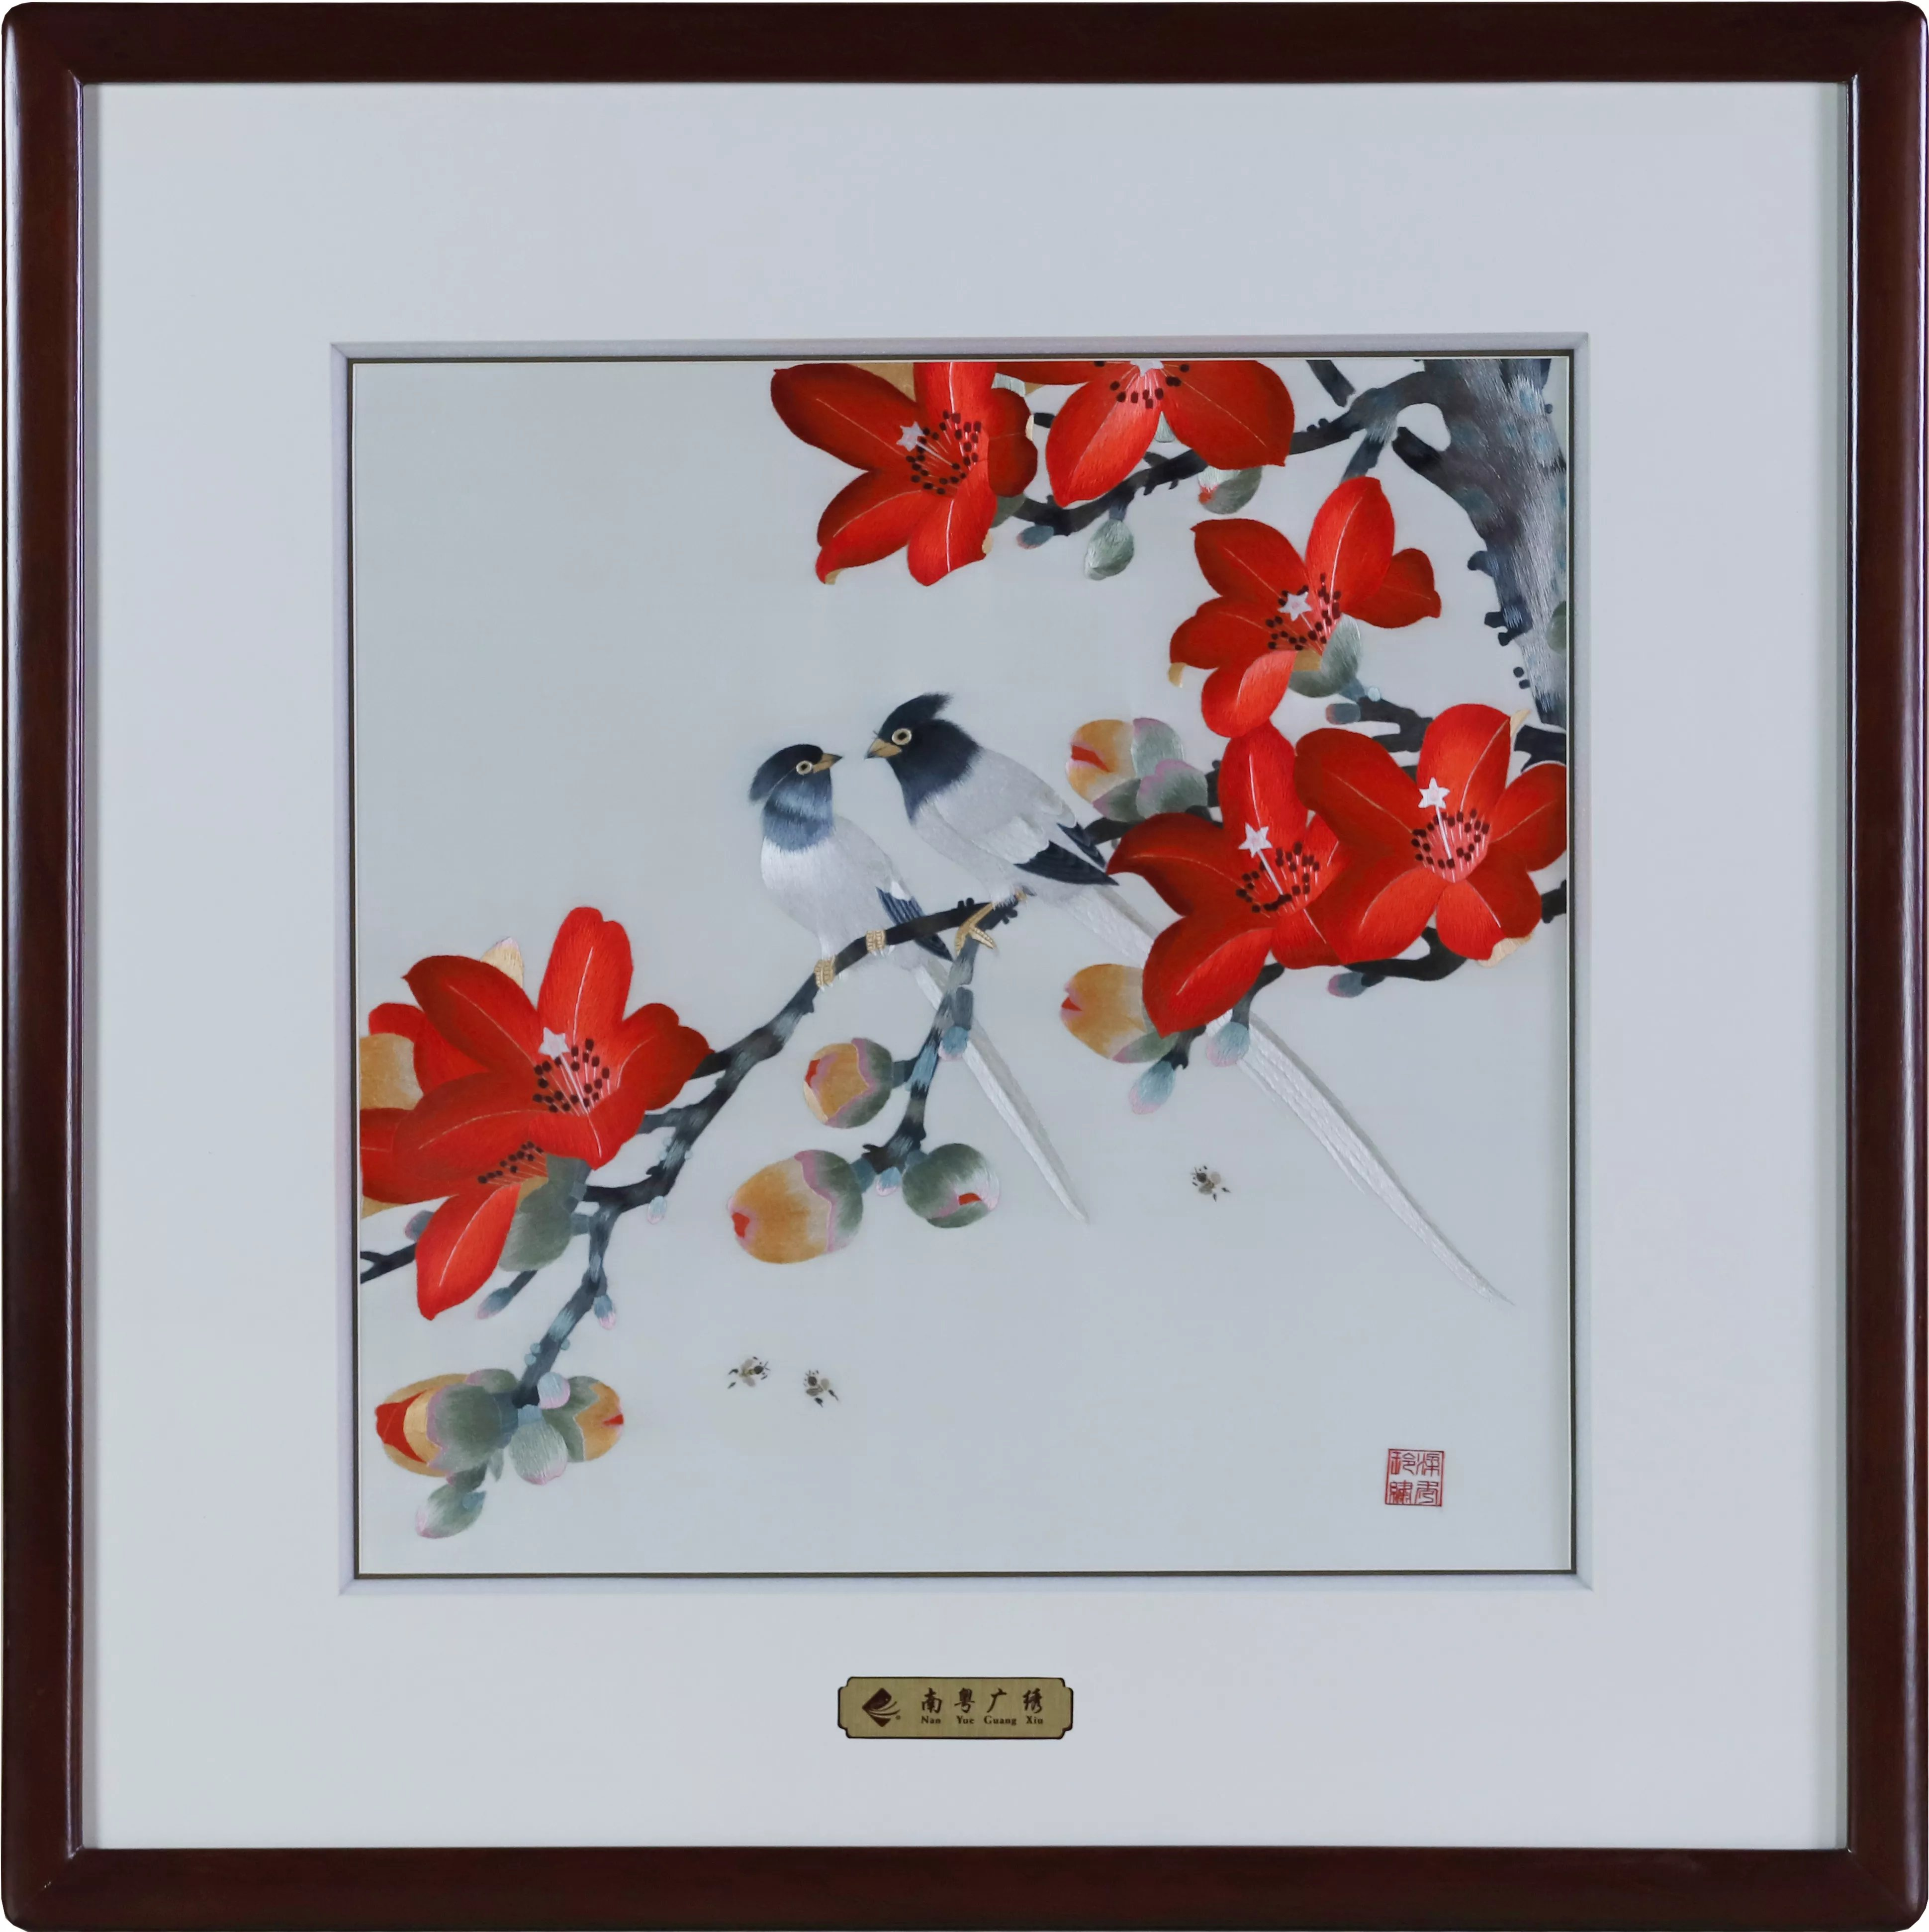bird: (855, 692, 1523, 1307), (747, 745, 1092, 1238)
kapok: (399, 906, 714, 1169), (1104, 724, 1350, 1040), (360, 936, 558, 1321), (1175, 470, 1449, 736), (1295, 705, 1572, 961), (770, 362, 1042, 585), (996, 357, 1297, 510), (724, 1150, 876, 1268), (371, 1372, 525, 1478), (1063, 962, 1199, 1067), (802, 1037, 899, 1130), (904, 1144, 1005, 1233)
